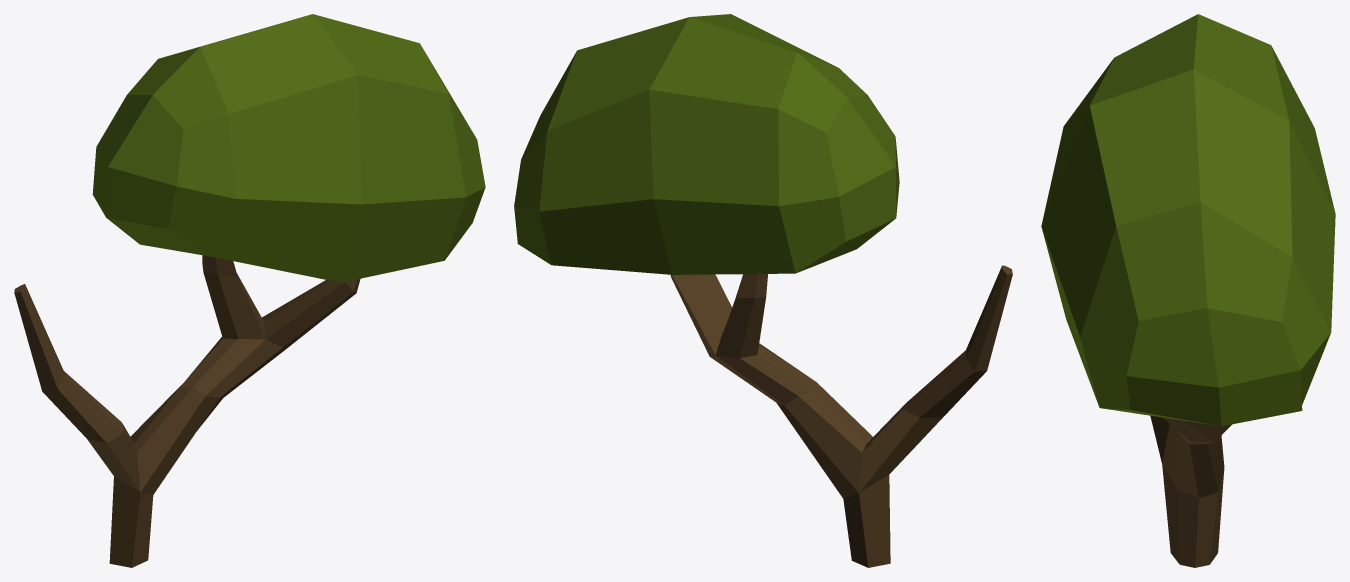
The model's file is TreesAndBushes_041.fbx.
3 renders of one model, left to right at view 1: azimuth 30°, elevation 25°; view 2: azimuth 150°, elevation 25°; view 3: azimuth 270°, elevation 25°, orthographic. The views are drawn at different scales.
Visible parts, largest first — view 1: TreesAndBushes_041; view 2: TreesAndBushes_041; view 3: TreesAndBushes_041.
Boxes of the visible parts, x1,y1,x2,y2 form: TreesAndBushes_041: (14,14,485,567); TreesAndBushes_041: (514,14,1012,567); TreesAndBushes_041: (1041,14,1335,567).
Bounding box in the file's own units: 54.49 × 55.99 × 25.14.
